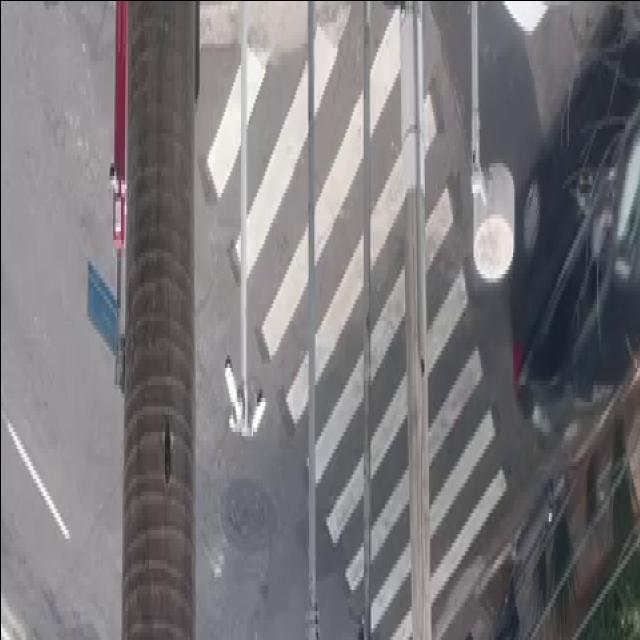car: (500, 11, 640, 462)
